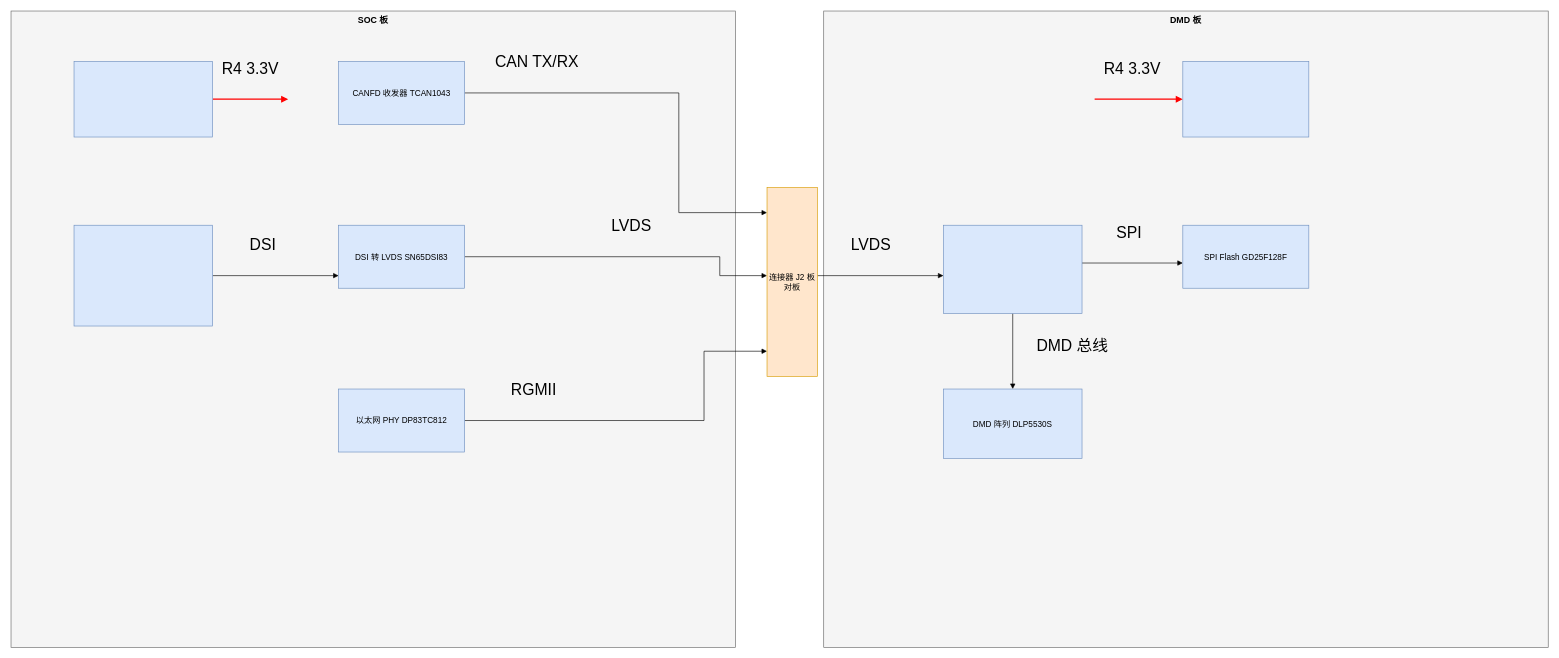
This 1559x658 diagram has some shape labels left out. Each missing label, with the centre of its shape:
"DCDC buck 3.3V SA25903" belongs at point (143, 99).
"DLP PMIC TPS9900S" belongs at point (1245, 99).
"DLP 控制器 DLPC231S" belongs at point (1012, 269).
"SOC 主控 LQ560" belongs at point (143, 275).
